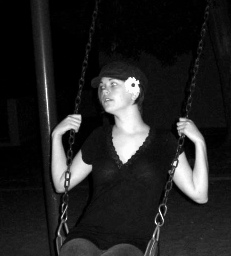person: (51, 62, 209, 256)
